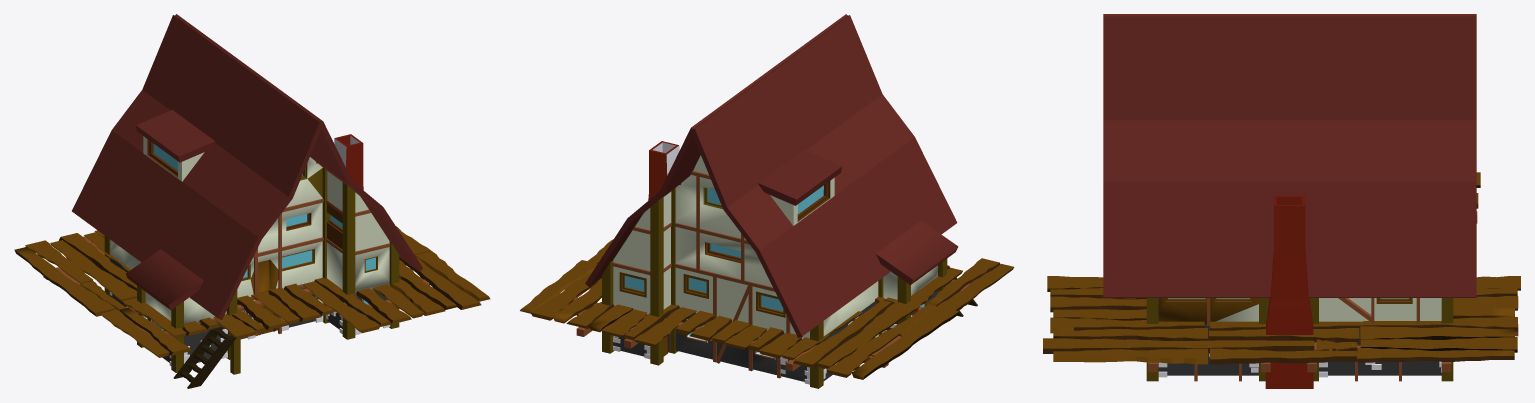
Rendered from huis2LOD.fbx.
3 renders of one model, left to right at view 1: azimuth 30°, elevation 25°; view 2: azimuth 150°, elevation 25°; view 3: azimuth 270°, elevation 25°, orthographic. The views are drawn at different scales.
Parts seen in each view (by area): view 1: Cube_LOD0; view 2: Cube_LOD0; view 3: Cube_LOD0.
Part boxes in pixels (box(x1,y1,x2,y2)): Cube_LOD0: box(14, 14, 490, 388); Cube_LOD0: box(520, 14, 1014, 388); Cube_LOD0: box(1043, 14, 1520, 388).
Size of what is drawn, in the model's own units: 20.76 by 15.04 by 21.14.
